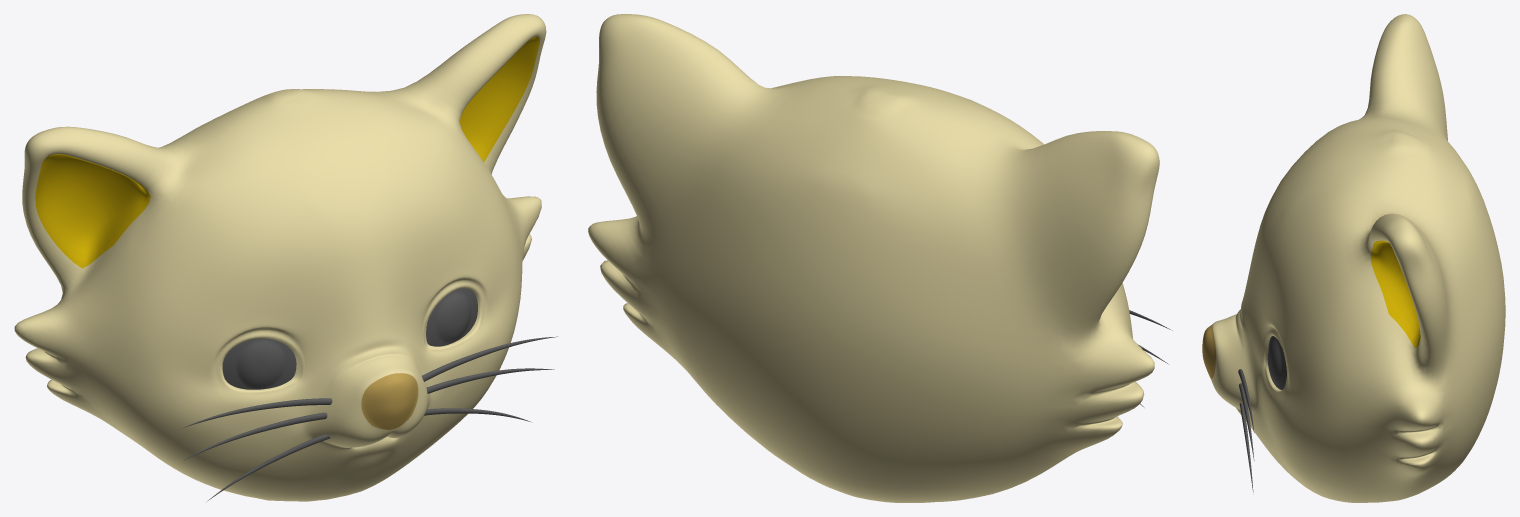
File: highPoly_cat.fbx
3 renders of one model, left to right at view 1: azimuth 30°, elevation 25°; view 2: azimuth 150°, elevation 25°; view 3: azimuth 270°, elevation 25°, orthographic. The views are drawn at different scales.
Parts seen in each view (by area): view 1: neutral1; view 2: neutral1; view 3: neutral1.
Boxes of the visible parts, x1,y1,x2,y2 form: neutral1: [14, 14, 557, 501]; neutral1: [588, 14, 1172, 502]; neutral1: [1202, 14, 1505, 502].
Size of the model in its own units: 11.72 by 8.4 by 6.42.
